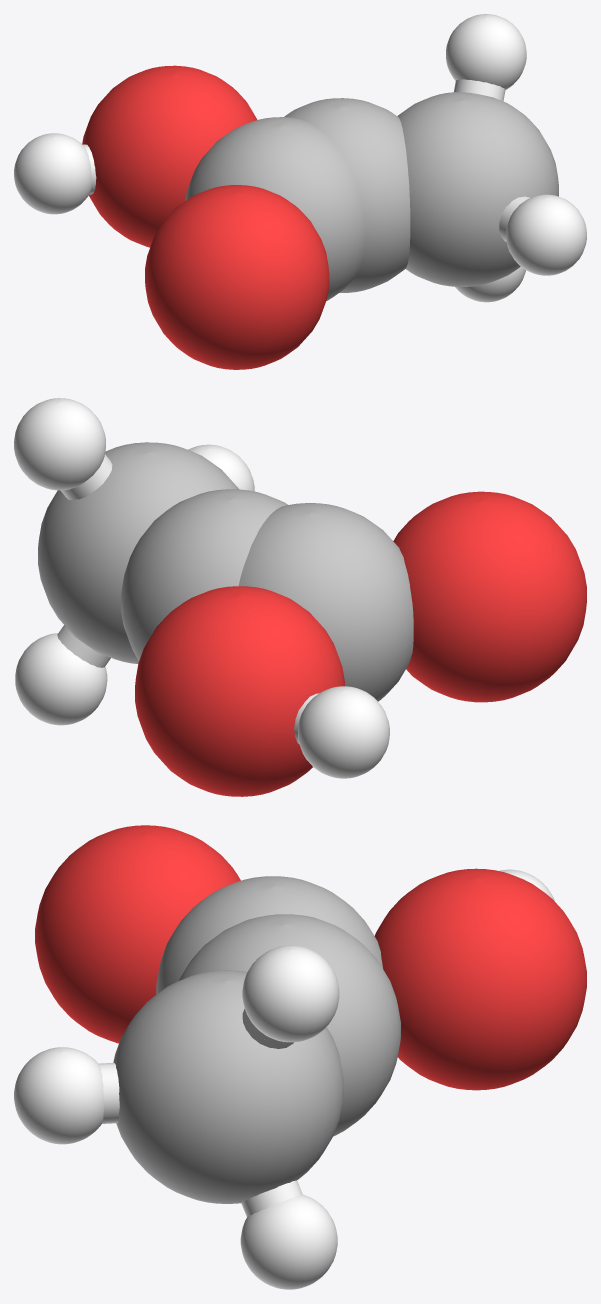
The model's file is acetic.fbx.
3 renders of one model, top to bottom at view 1: azimuth 30°, elevation 25°; view 2: azimuth 150°, elevation 25°; view 3: azimuth 270°, elevation 25°, orthographic. The views are drawn at different scales.
Parts seen in each view (by area): view 1: Oxygen_mesh|Oxygen_ball|Dupli|1, Carbon_mesh|Carbon_ball|Dupli|, Oxygen_mesh|Oxygen_ball|Dupli|, Carbon_mesh|Carbon_ball|Dupli|1, Carbon_ball, Hydrogen_mesh|Hydrogen_ball|Dupli|2, Hydrogen_mesh|Hydrogen_ball|Dupli|3, Hydrogen_mesh|Hydrogen_ball|Dupli|1, Oxygen_mesh|Oxygen_ball|Dupli|0.1, Hydrogen_mesh|Hydrogen_ball|Dupli|; view 2: Oxygen_mesh|Oxygen_ball|Dupli|, Oxygen_mesh|Oxygen_ball|Dupli|1, Carbon_mesh|Carbon_ball|Dupli|1, Carbon_mesh|Carbon_ball|Dupli|, Carbon_ball, Hydrogen_mesh|Hydrogen_ball|Dupli|3, Hydrogen_mesh|Hydrogen_ball|Dupli|1, Hydrogen_mesh|Hydrogen_ball|Dupli|, Hydrogen_mesh|Hydrogen_ball|Dupli|2; view 3: Carbon_mesh|Carbon_ball|Dupli|, Oxygen_mesh|Oxygen_ball|Dupli|, Oxygen_mesh|Oxygen_ball|Dupli|1, Carbon_ball, Carbon_mesh|Carbon_ball|Dupli|1, Hydrogen_mesh|Hydrogen_ball|Dupli|1, Hydrogen_mesh|Hydrogen_ball|Dupli|2, Hydrogen_mesh|Hydrogen_ball|Dupli|.
Part boxes in pixels (bbox=[...]): Oxygen_mesh|Oxygen_ball|Dupli|1: bbox=[145, 185, 329, 369]; Carbon_mesh|Carbon_ball|Dupli|: bbox=[397, 92, 558, 286]; Oxygen_mesh|Oxygen_ball|Dupli|: bbox=[82, 65, 257, 247]; Carbon_mesh|Carbon_ball|Dupli|1: bbox=[185, 117, 365, 300]; Carbon_ball: bbox=[284, 98, 410, 292]; Hydrogen_mesh|Hydrogen_ball|Dupli|2: bbox=[506, 194, 586, 275]; Hydrogen_mesh|Hydrogen_ball|Dupli|3: bbox=[14, 133, 91, 214]; Hydrogen_mesh|Hydrogen_ball|Dupli|1: bbox=[446, 14, 526, 89]; Oxygen_mesh|Oxygen_ball|Dupli|0.1: bbox=[151, 188, 328, 367]; Hydrogen_mesh|Hydrogen_ball|Dupli|: bbox=[455, 267, 525, 302]; Oxygen_mesh|Oxygen_ball|Dupli|: bbox=[135, 586, 344, 796]; Oxygen_mesh|Oxygen_ball|Dupli|1: bbox=[393, 491, 586, 702]; Carbon_mesh|Carbon_ball|Dupli|1: bbox=[238, 503, 413, 701]; Carbon_mesh|Carbon_ball|Dupli|: bbox=[38, 442, 238, 663]; Carbon_ball: bbox=[121, 489, 287, 660]; Hydrogen_mesh|Hydrogen_ball|Dupli|3: bbox=[298, 686, 389, 778]; Hydrogen_mesh|Hydrogen_ball|Dupli|1: bbox=[14, 398, 105, 490]; Hydrogen_mesh|Hydrogen_ball|Dupli|: bbox=[15, 633, 107, 725]; Hydrogen_mesh|Hydrogen_ball|Dupli|2: bbox=[188, 444, 254, 491]; Carbon_mesh|Carbon_ball|Dupli|: bbox=[113, 970, 343, 1203]; Oxygen_mesh|Oxygen_ball|Dupli|: bbox=[374, 868, 586, 1090]; Oxygen_mesh|Oxygen_ball|Dupli|1: bbox=[35, 825, 240, 1043]; Carbon_ball: bbox=[178, 914, 400, 1136]; Carbon_mesh|Carbon_ball|Dupli|1: bbox=[156, 876, 382, 994]; Hydrogen_mesh|Hydrogen_ball|Dupli|1: bbox=[242, 945, 339, 1042]; Hydrogen_mesh|Hydrogen_ball|Dupli|2: bbox=[14, 1047, 103, 1144]; Hydrogen_mesh|Hydrogen_ball|Dupli|: bbox=[240, 1194, 337, 1289].
Size of the model in its own units: 387 by 244 by 377.
